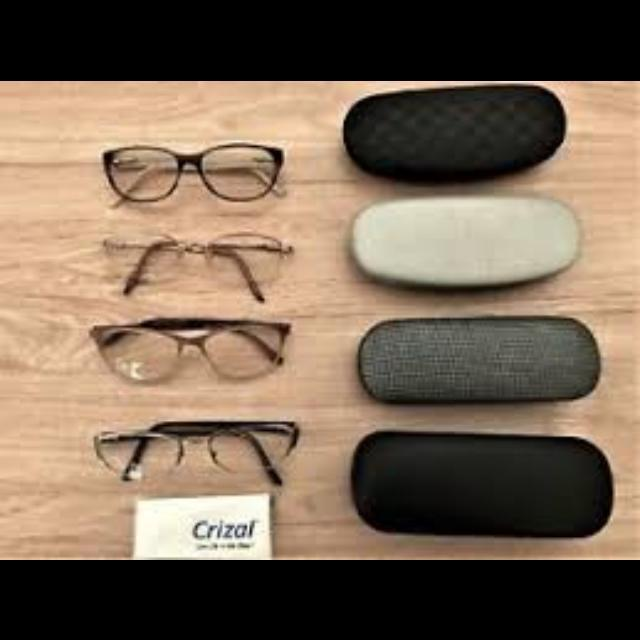mask: (90, 417, 304, 485), (85, 317, 295, 383), (98, 140, 290, 210), (102, 232, 294, 296)
